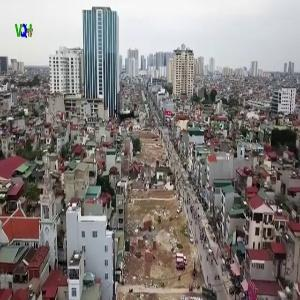drone: (101, 86, 157, 142)
